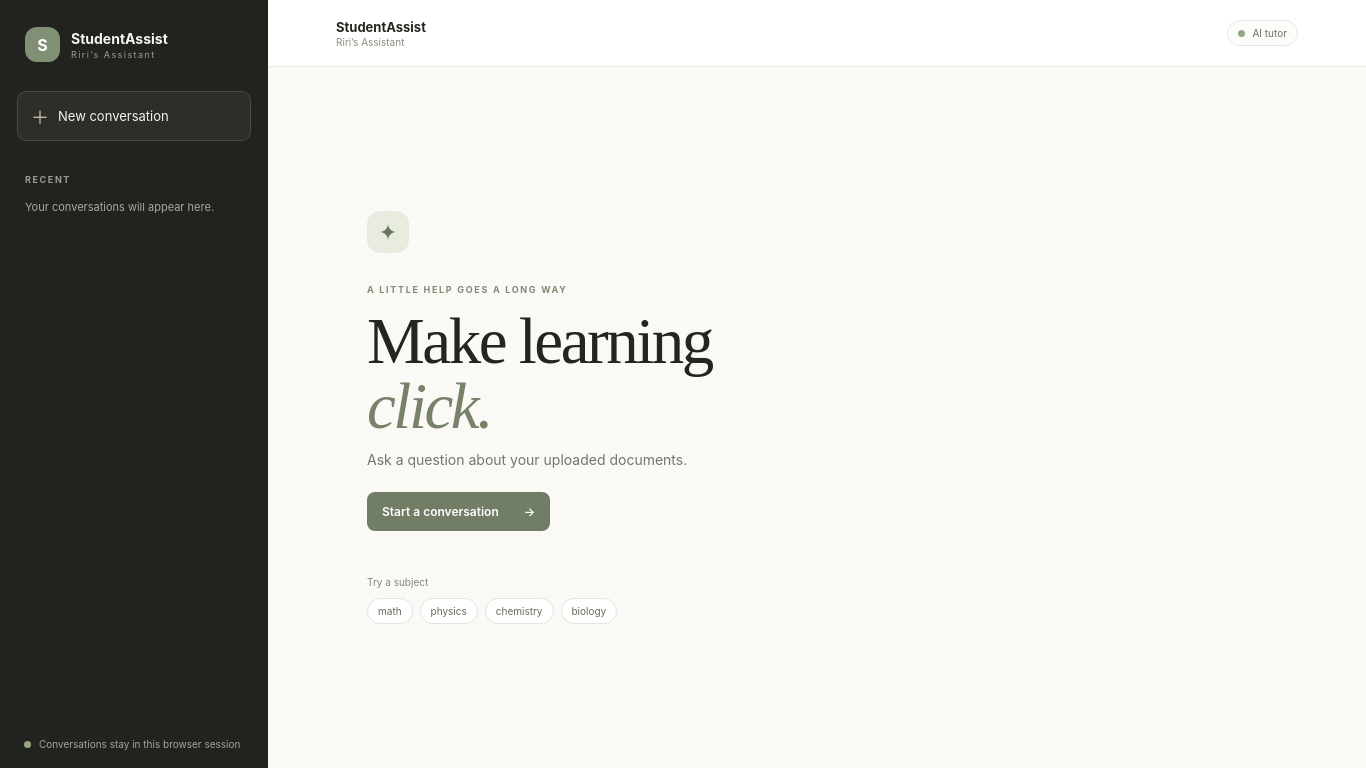
Test: StudentAssist chat › sends an explicitly selected subject and reuses the conversation ID for follow-ups
Click the button "Start a conversation →": coordinates (459, 511) [367,492,550,531]
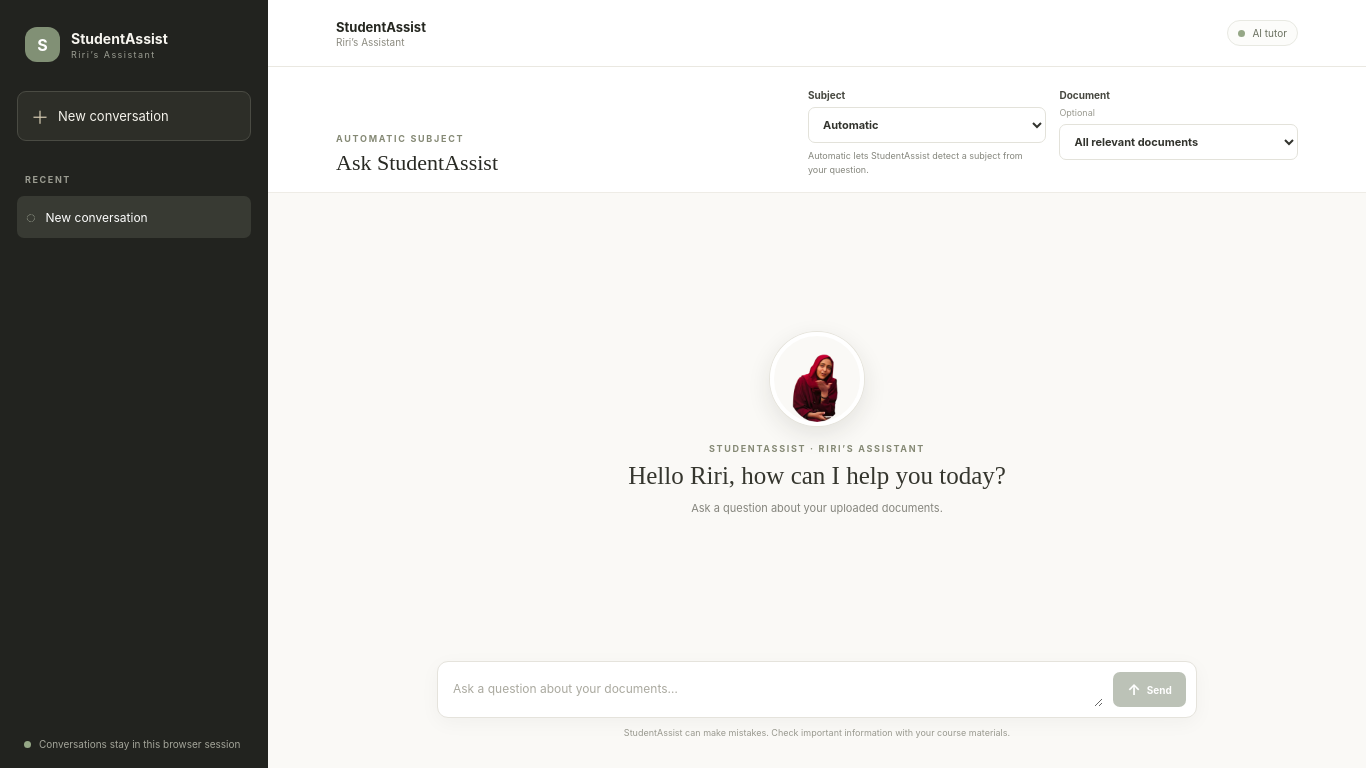
Select "Math" in the dropdown labelled "Subject": coordinates (927, 125) [808,107,1046,143]
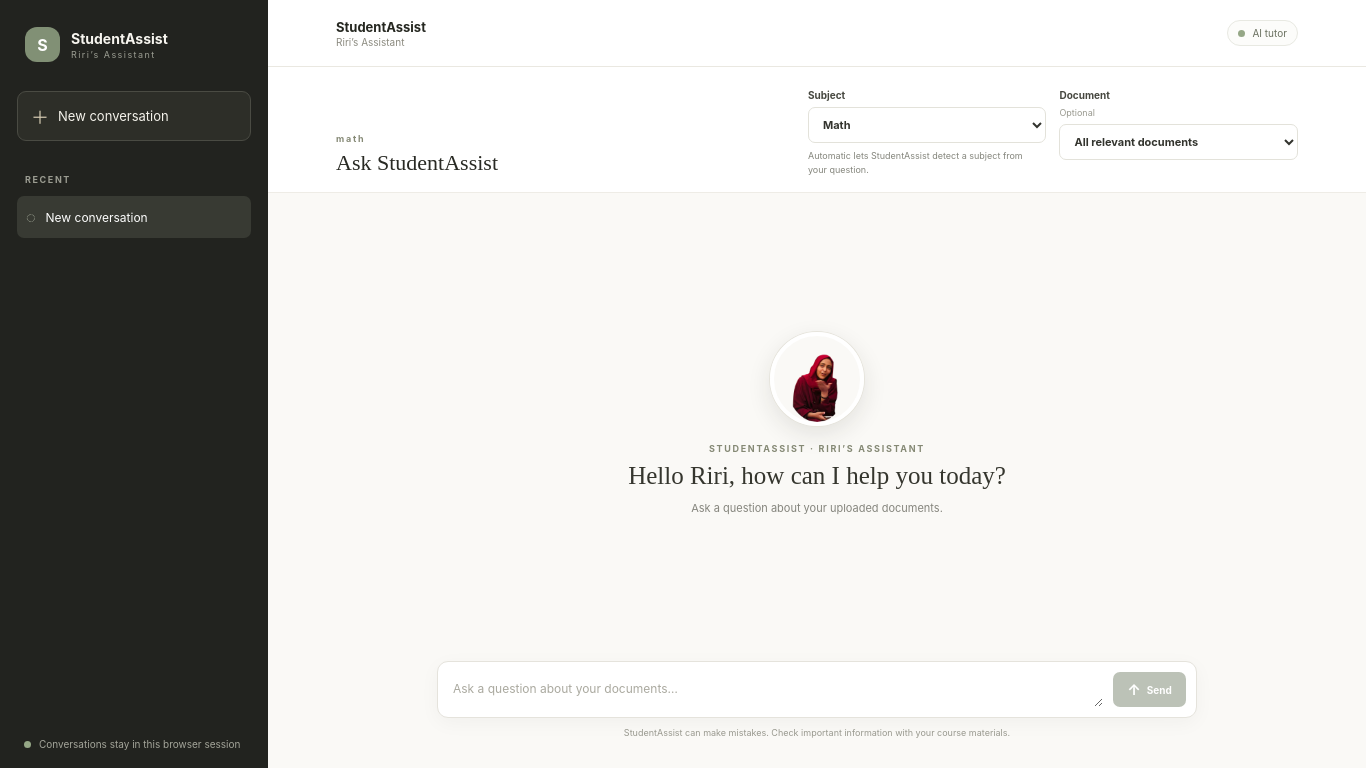
In the text box named "Your question": coordinates (776, 690) [448,672,1103,707], type "First question?"
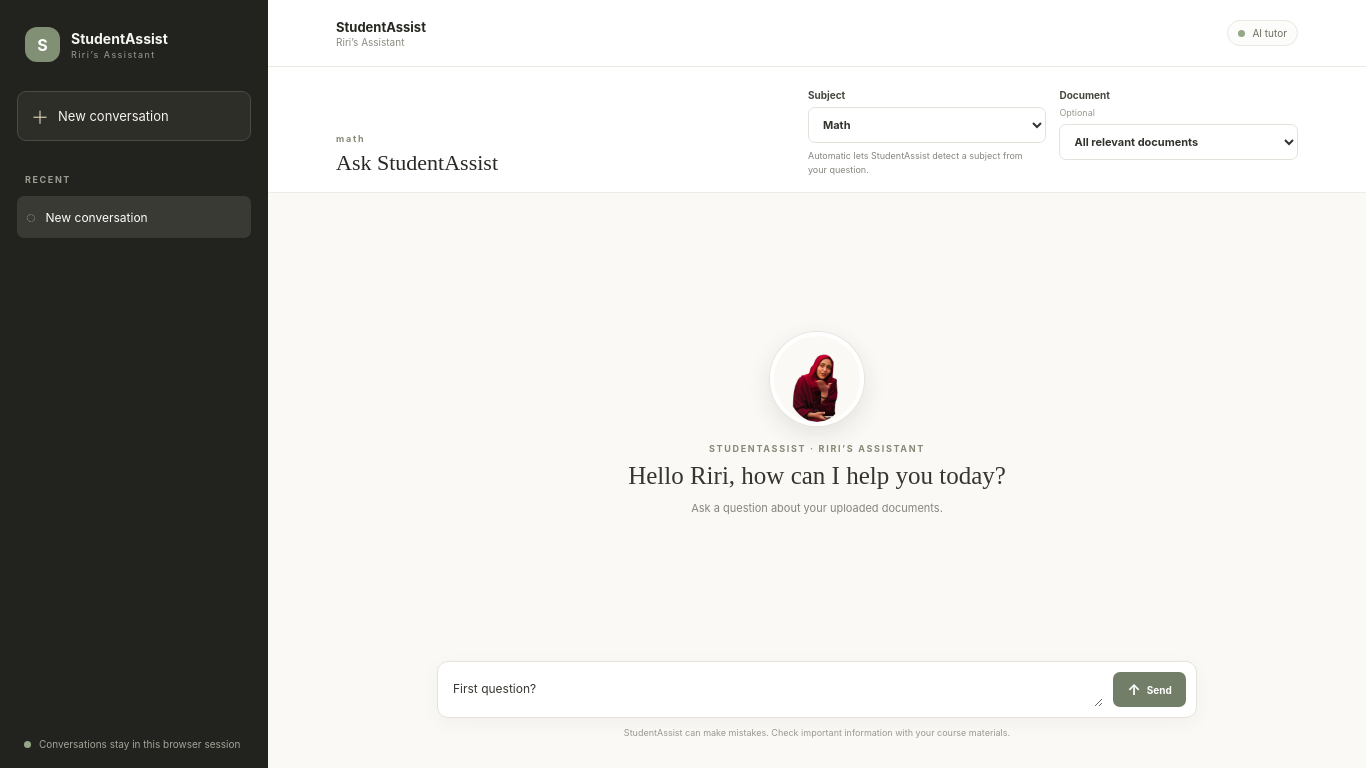
Click the button "↑ Send": coordinates (1150, 690) [1113,672,1186,707]
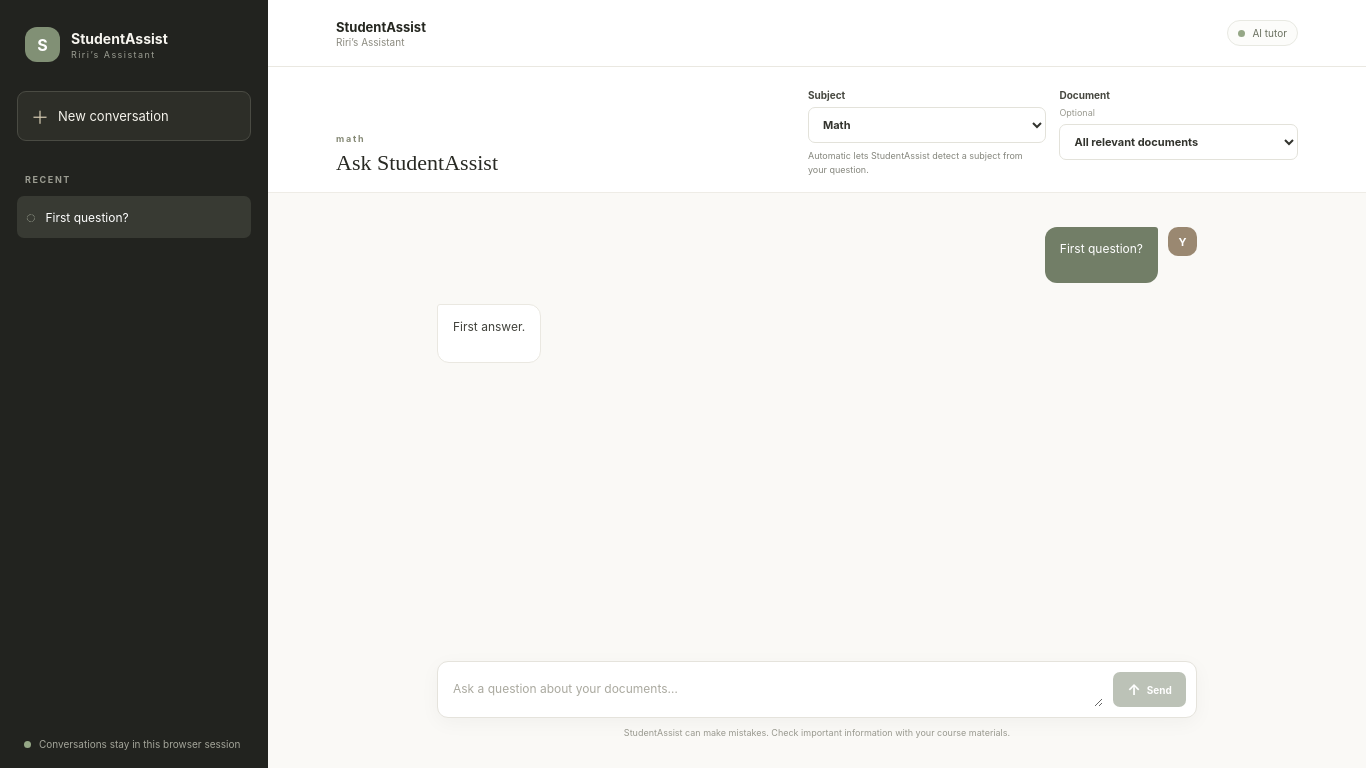
Check: the text "First answer." is shown, box [453,317,525,338]
In the text box named "Your question": coordinates (776, 690) [448,672,1103,707], type "Follow-up?"
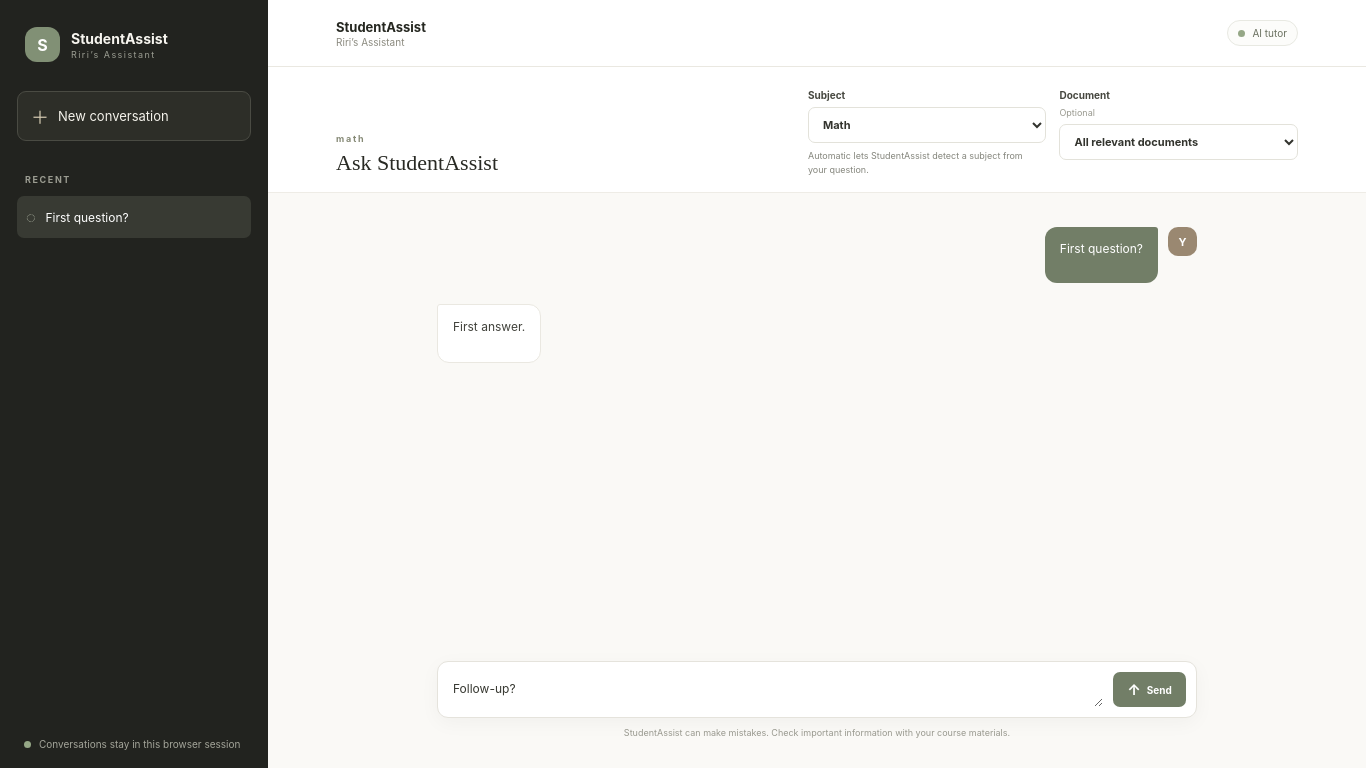
Click the button "↑ Send": coordinates (1150, 690) [1113,672,1186,707]
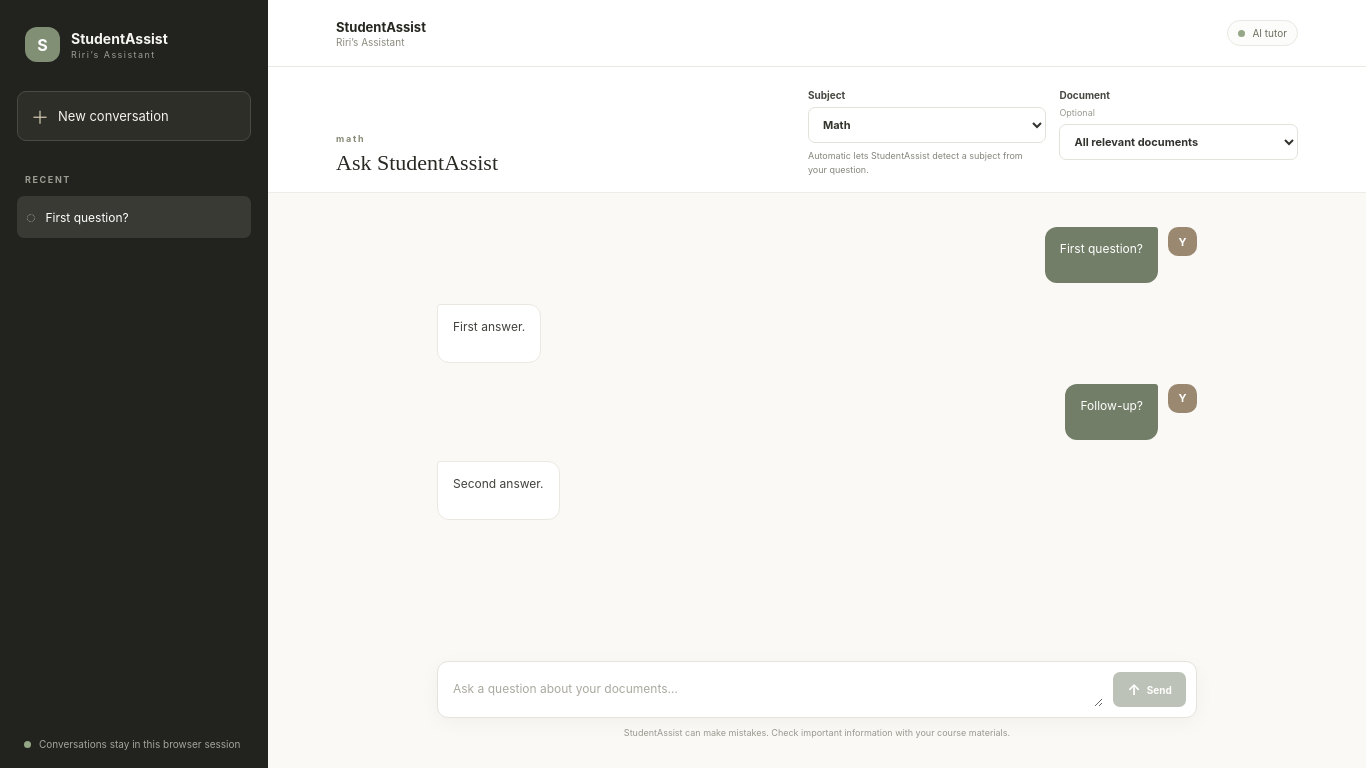
Check: the text "Second answer." is shown, box [453,474,544,495]
